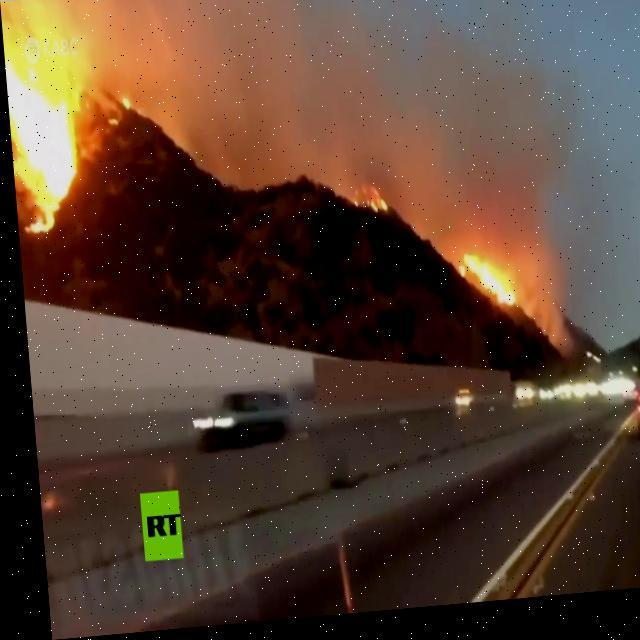Fire: (3, 7, 83, 240), (454, 255, 509, 321), (362, 191, 385, 221), (118, 95, 127, 114)
